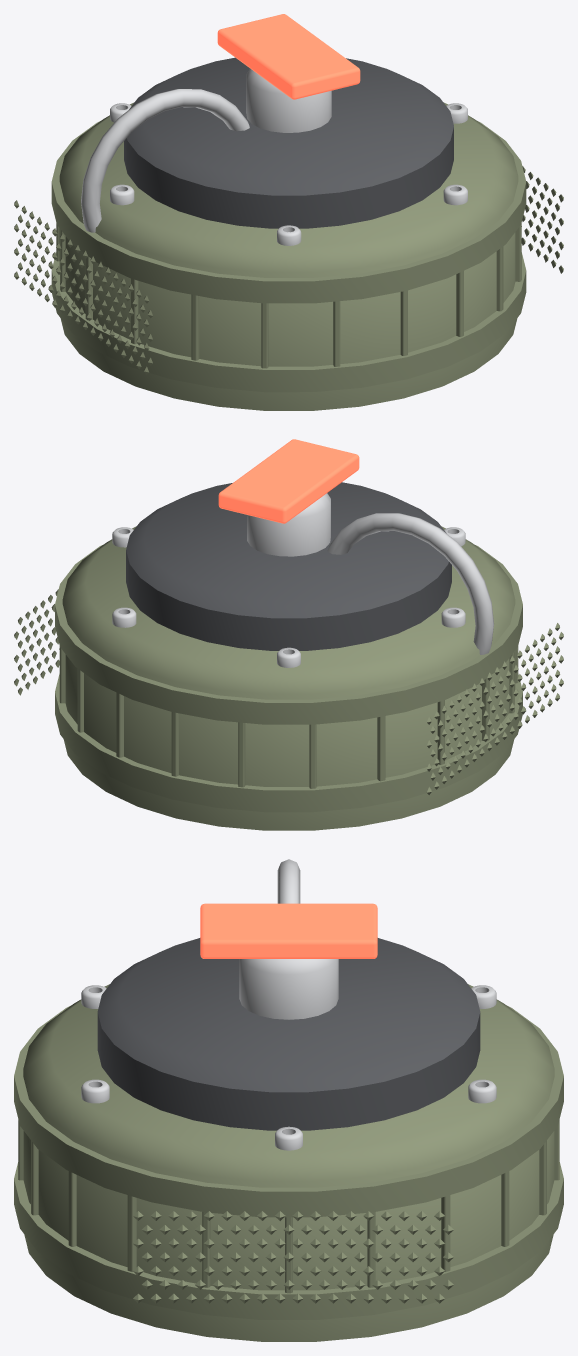
Rendered from mega-weapon-pack-pressure-mine-6ea791cc__33361.glb.
3 renders of one model, top to bottom at view 1: azimuth 30°, elevation 25°; view 2: azimuth 150°, elevation 25°; view 3: azimuth 270°, elevation 25°, orthographic. The views are drawn at different scales.
Visible parts, largest first — view 1: pressure-mine; view 2: pressure-mine; view 3: pressure-mine.
Boxes of the visible parts, box(x1,y1,x2,y2) form: pressure-mine: box(14, 14, 563, 410); pressure-mine: box(14, 439, 563, 830); pressure-mine: box(14, 859, 563, 1341).
Size of the model in its own units: 0.1586 by 0.096 by 0.1552.
